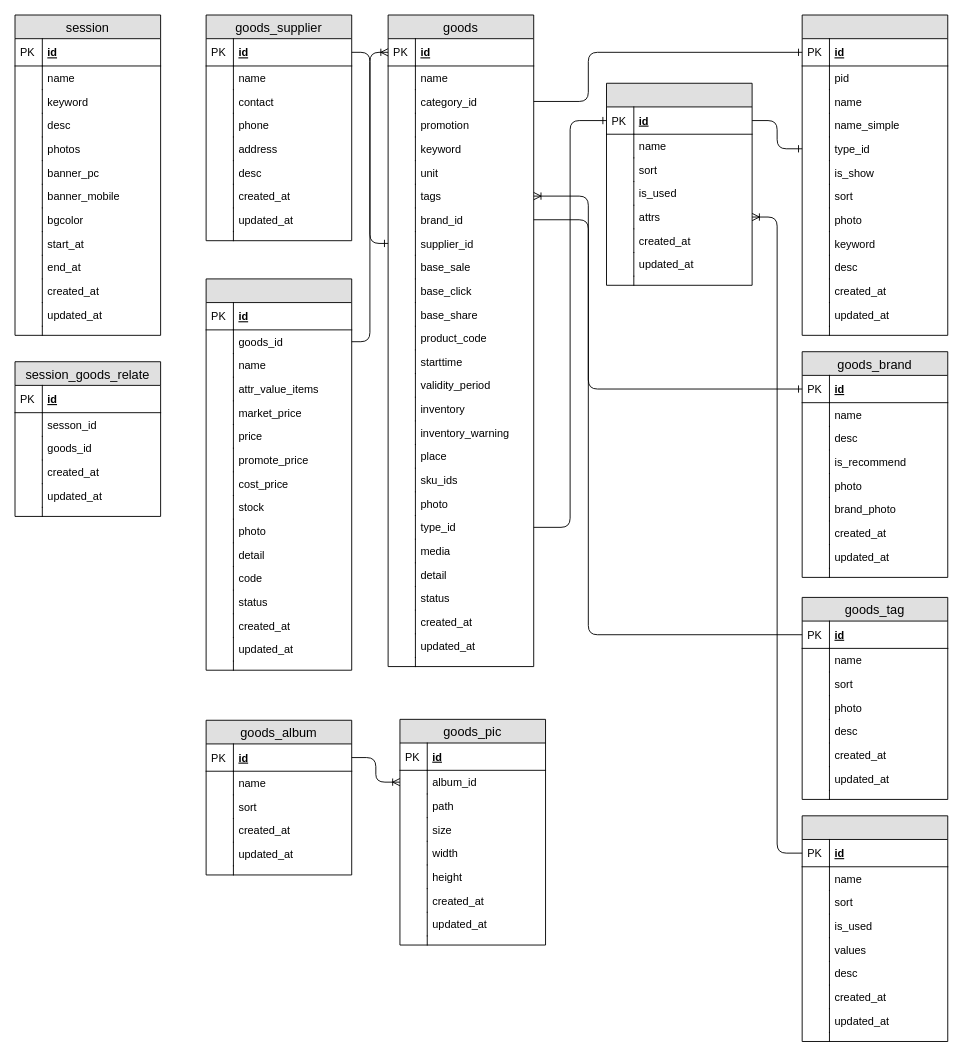
Some shapes in this 963 by 1057 pixel diagram are drawn without their labels. The box of each missing label's shape, as (x1, y1, x2, y2) in pixels:
goods_category: (801, 14, 948, 335)
goods_sku: (205, 278, 352, 670)
goods_spec: (801, 815, 948, 1041)
goods_type: (606, 82, 752, 285)
